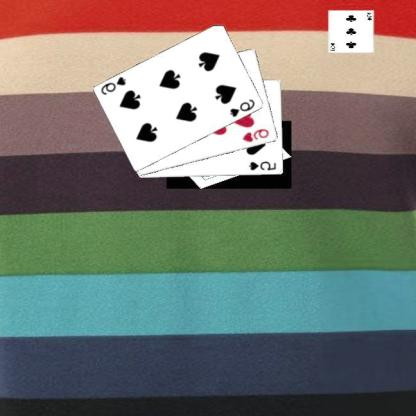5S: (248, 159, 280, 172)
6S: (229, 96, 258, 118), (100, 74, 129, 96)
9H: (242, 126, 272, 144)
